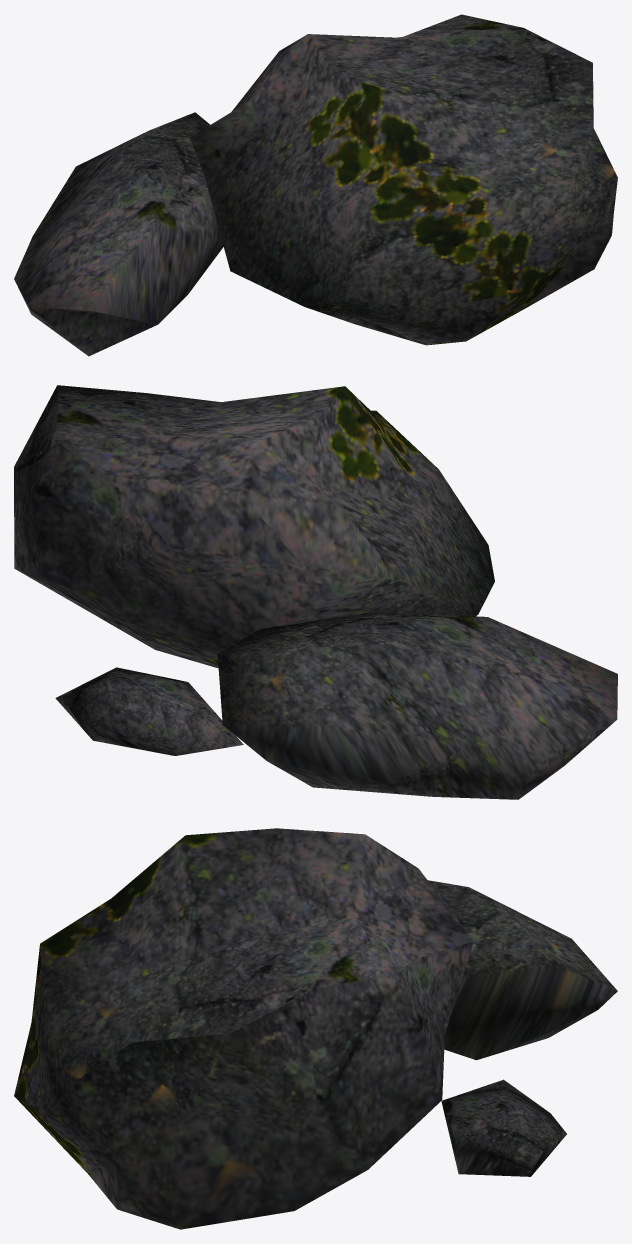
File: treasurestones.dae
The picture shows the model from 3 angles, top to bottom: view 1: azimuth 30°, elevation 25°; view 2: azimuth 150°, elevation 25°; view 3: azimuth 270°, elevation 25°; orthographic projection. The views are drawn at different scales.
Parts seen in each view (by area): view 1: Sphere; view 2: Sphere; view 3: Sphere.
Part boxes in pixels (bbox=[...]): Sphere: bbox=[14, 14, 617, 356]; Sphere: bbox=[14, 385, 617, 799]; Sphere: bbox=[14, 828, 617, 1229].
Bounding box in the file's own units: 1.91 × 1.5 × 0.8741.
1 material, 1 textured.
